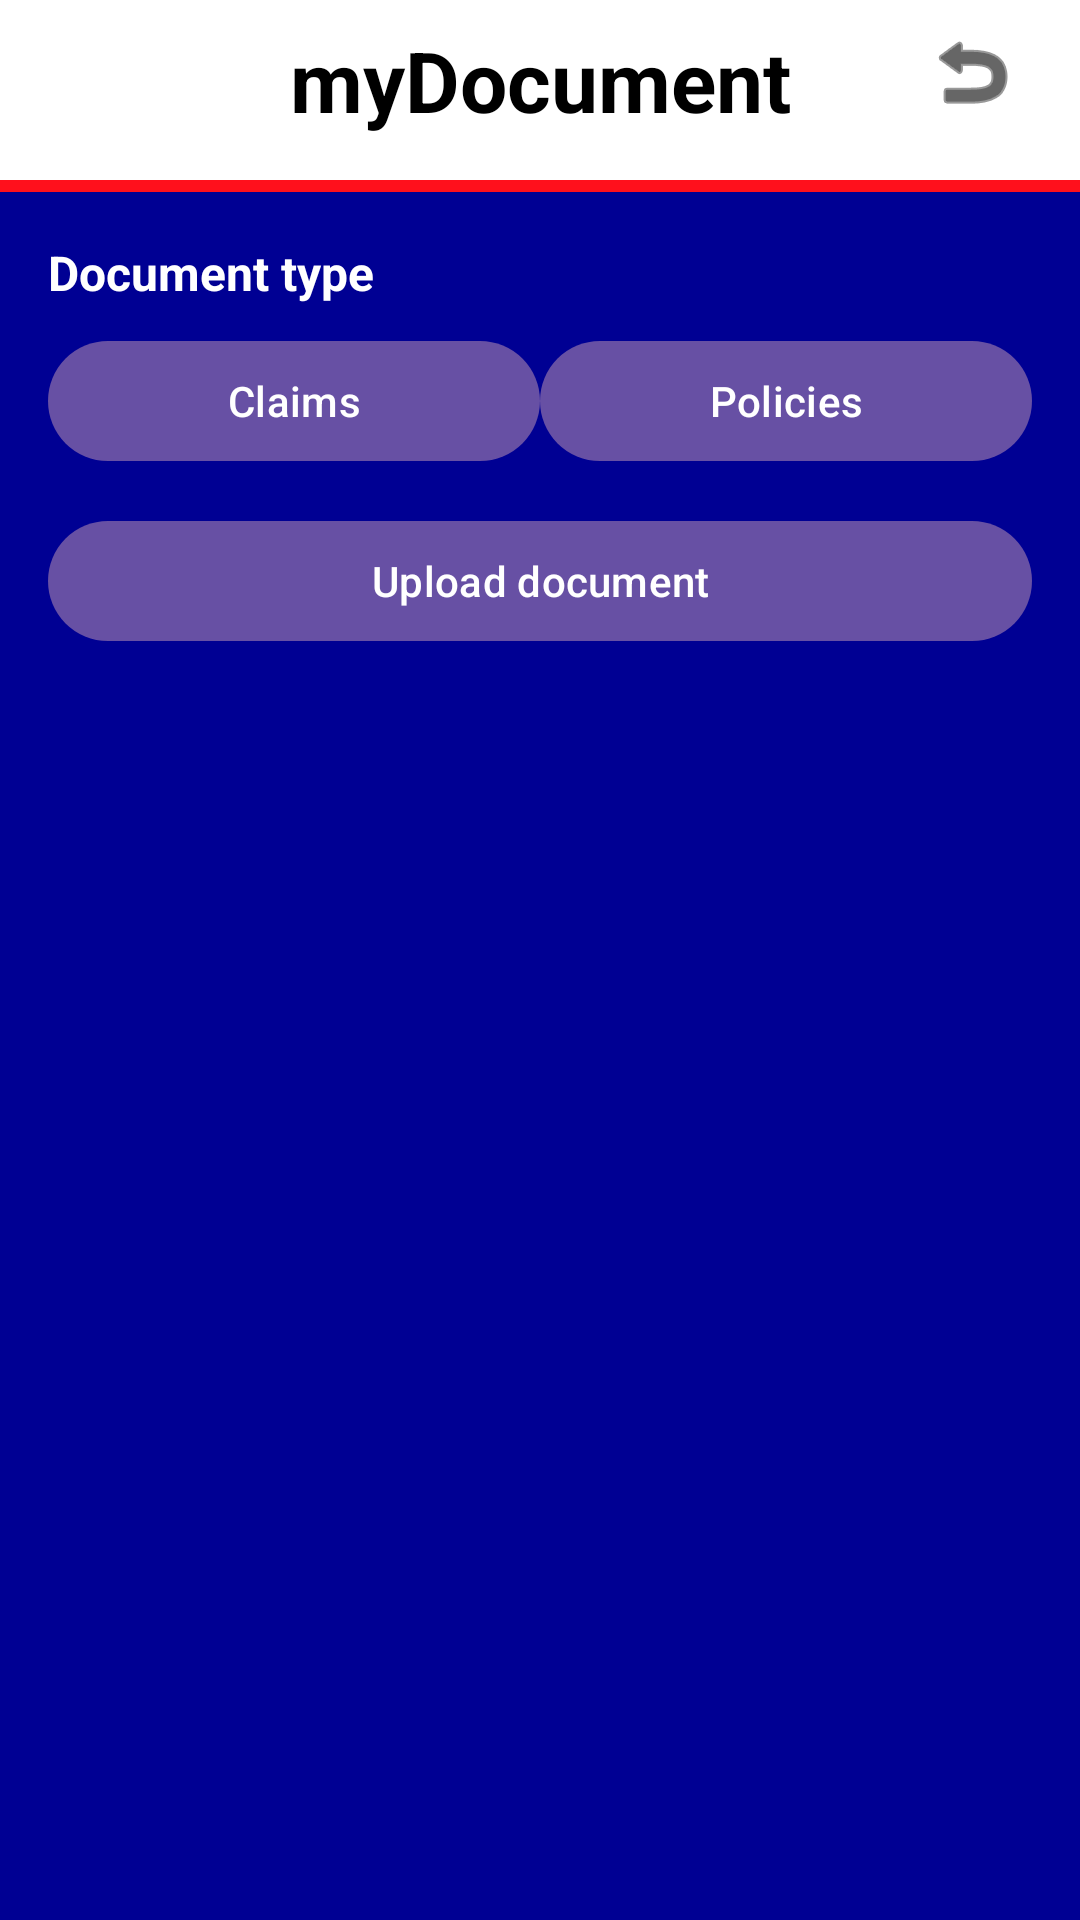

Icons on this 1080x1920 Android screen, each with its box as [x1, y1, x2, y2]:
Return: [939, 41, 1008, 104]
